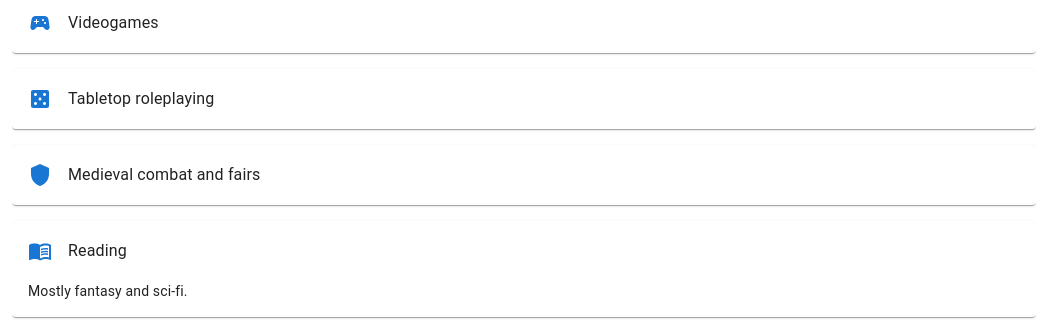
Test: clicking a collapsed card expands it and collapses the previous one
The width and height of the screenshot is (1048, 336).
Step 1. Click the button "Tabletop roleplaying" → {"x": 141, "y": 98}, box [12, 69, 1036, 129]
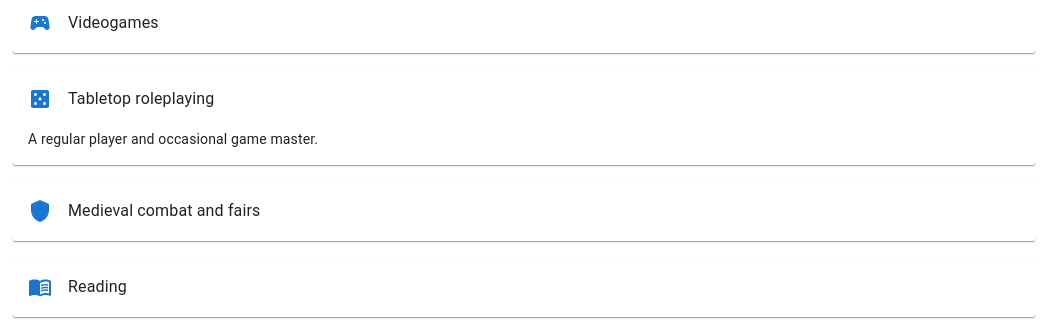
expect the button "Reading" is collapsed: met, box [12, 257, 1036, 317]
